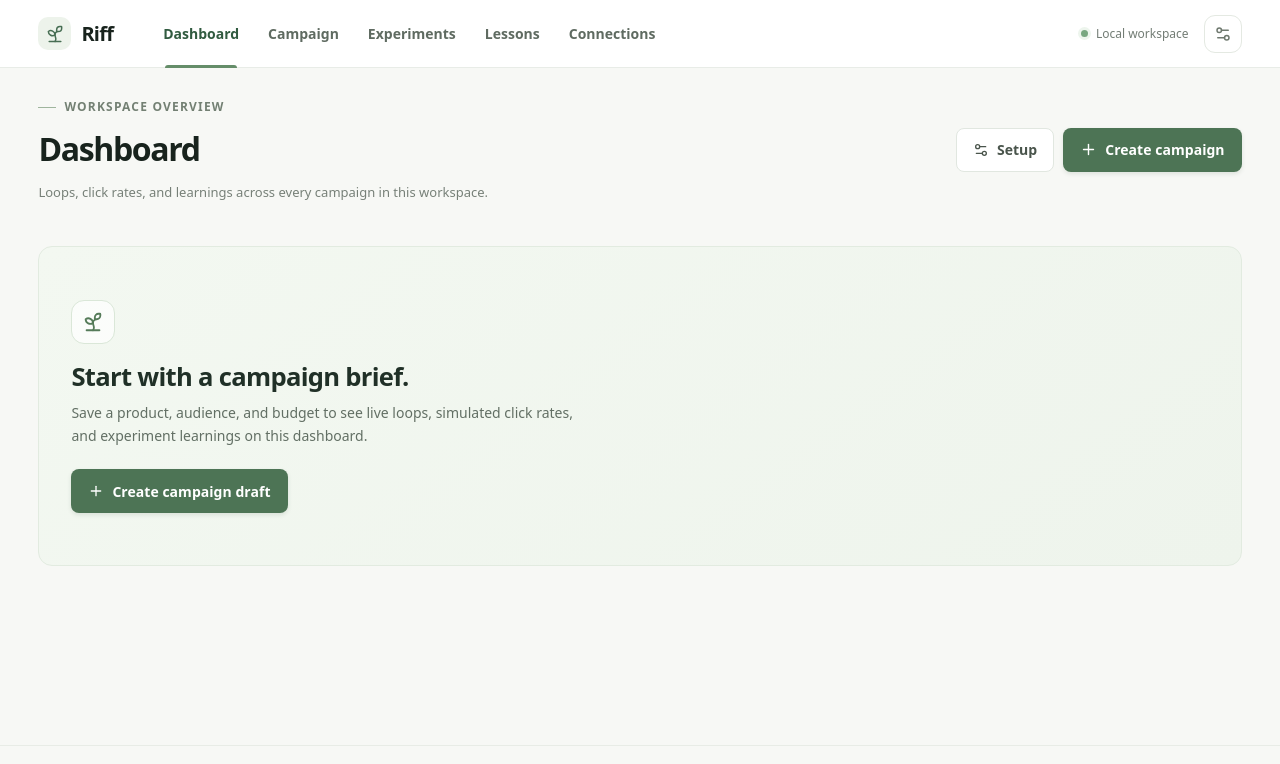
Test: Riff dashboard › saves a draft with integer cents and claim lines without starting generation
The image size is (1280, 764).
Click the button "Create campaign draft" at x=179, y=491, box [71,469,288,513]
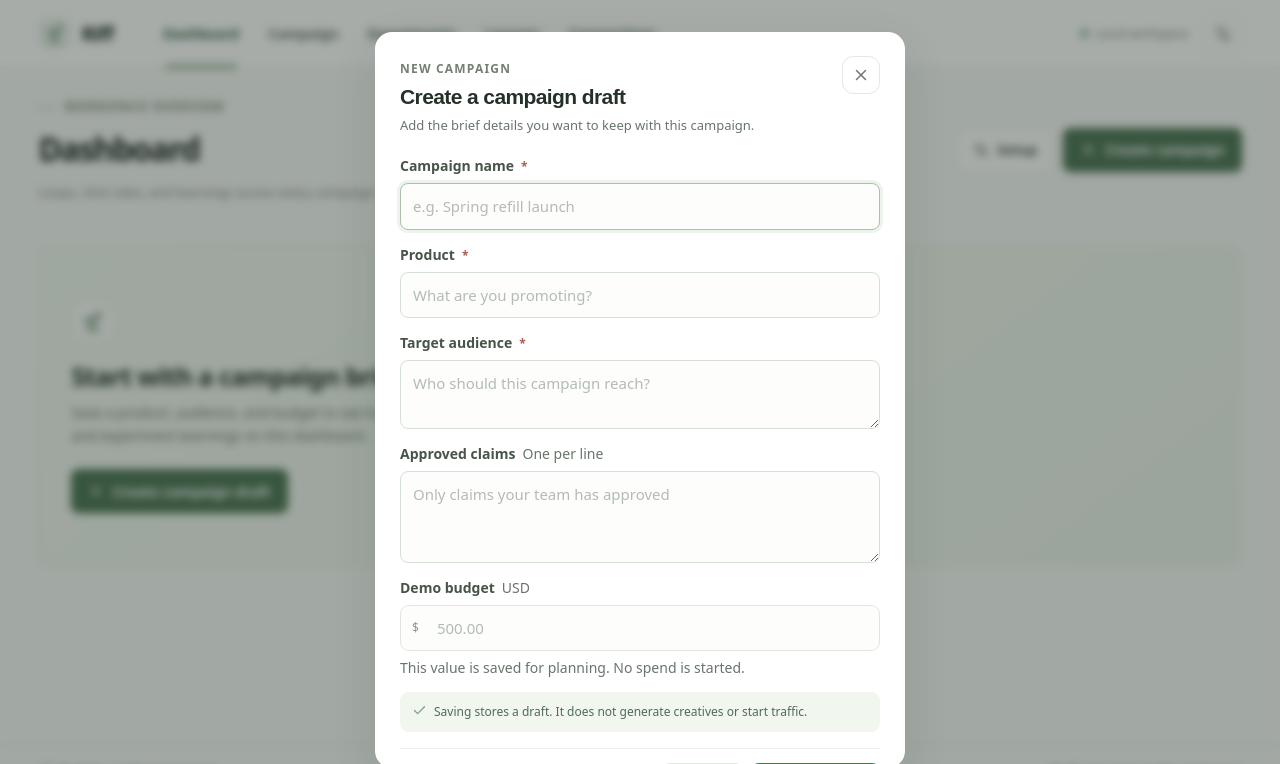
Type "Weekend refill" into the field labelled "Campaign name *" at x=640, y=207, box [400,183,880,230]
Type "Reusable bottle" into the field labelled "Product *" at x=640, y=295, box [400,272,880,318]
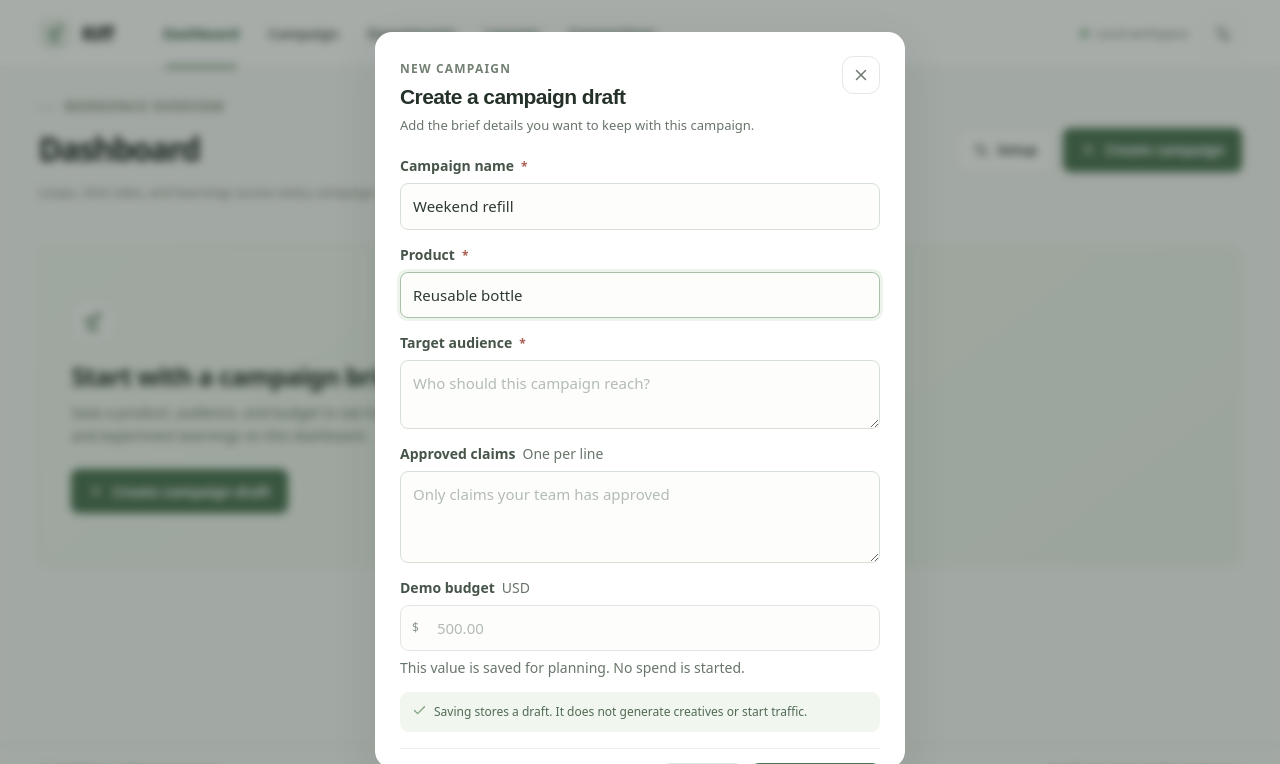
Type "People who commute" into the text box labelled "Target audience *" at x=640, y=395, box [400,360,880,429]
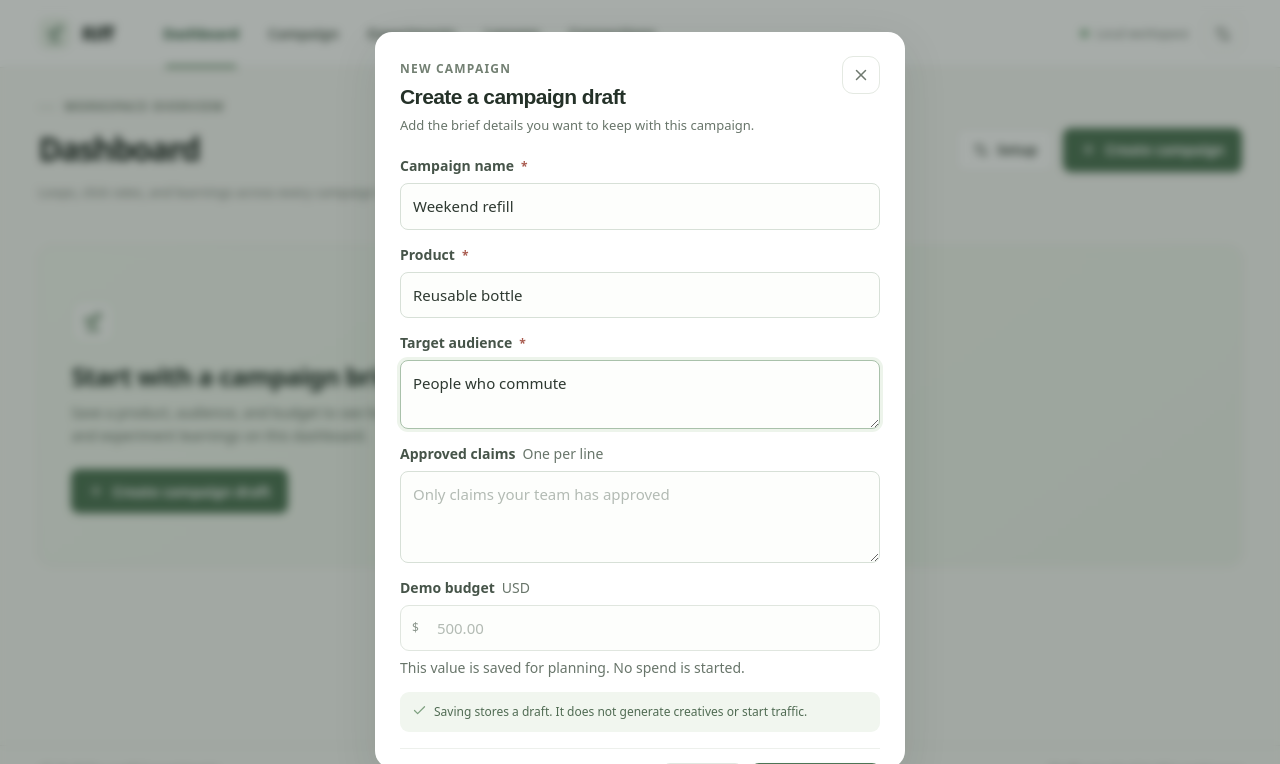
Type "Made for repeat use" into the text box labelled "Approved claims One per line" at x=640, y=517, box [400,471,880,563]
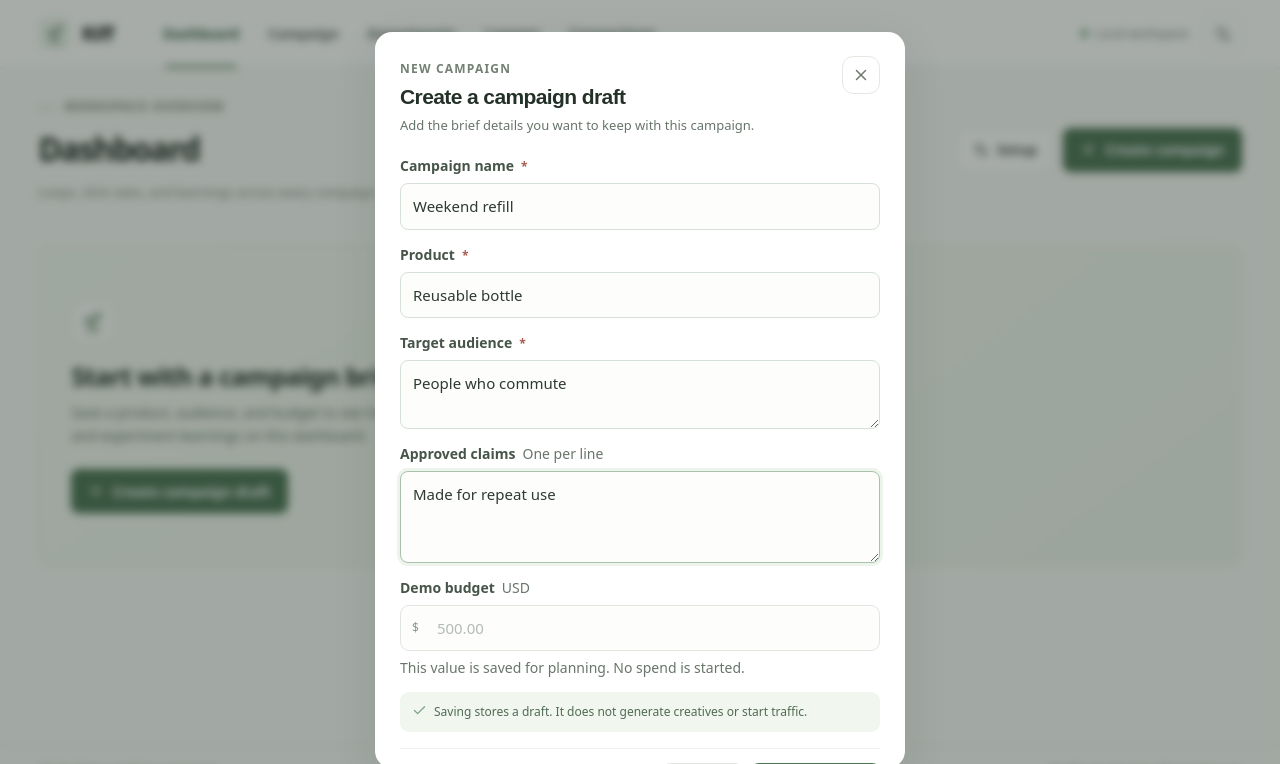
Type "250" into the number field named "Demo budget in US dollars" at x=652, y=628, box [425,606,879,650]
(page scrolled)
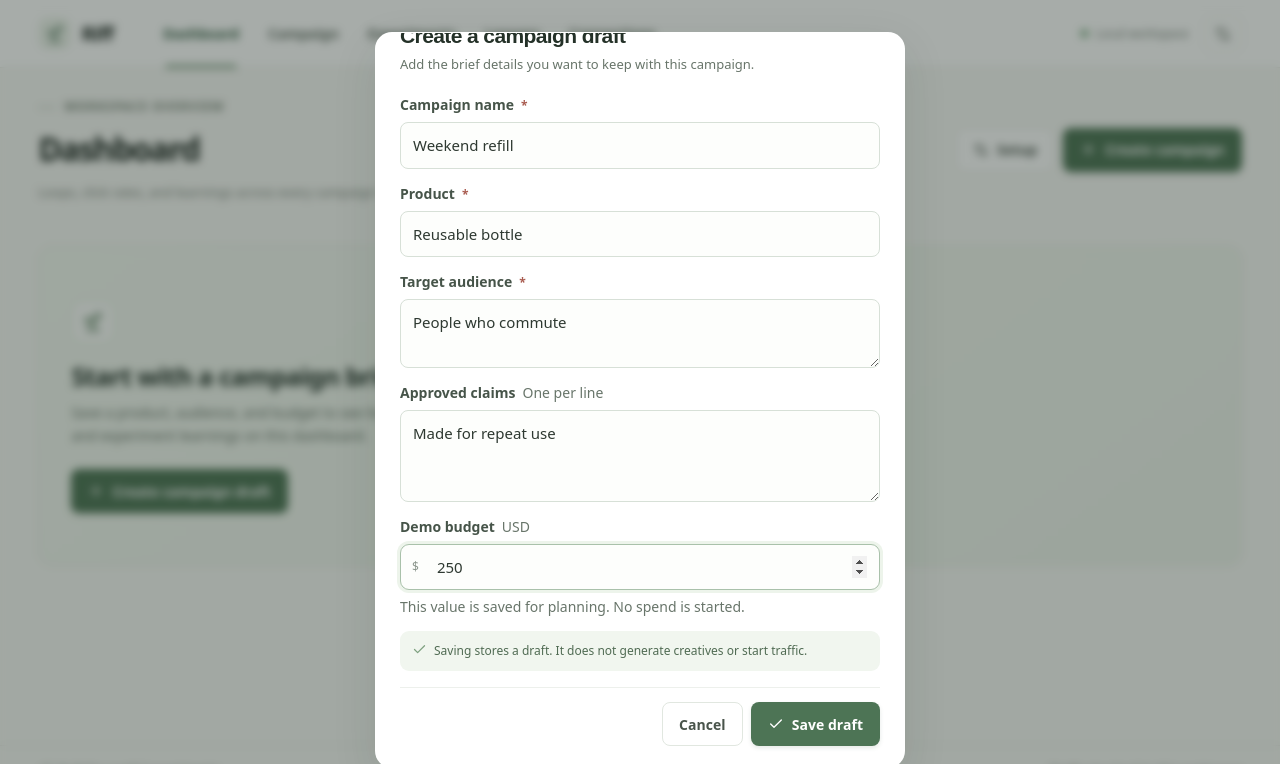
Click the button "Save draft" at x=815, y=724, box [751,702,880,746]
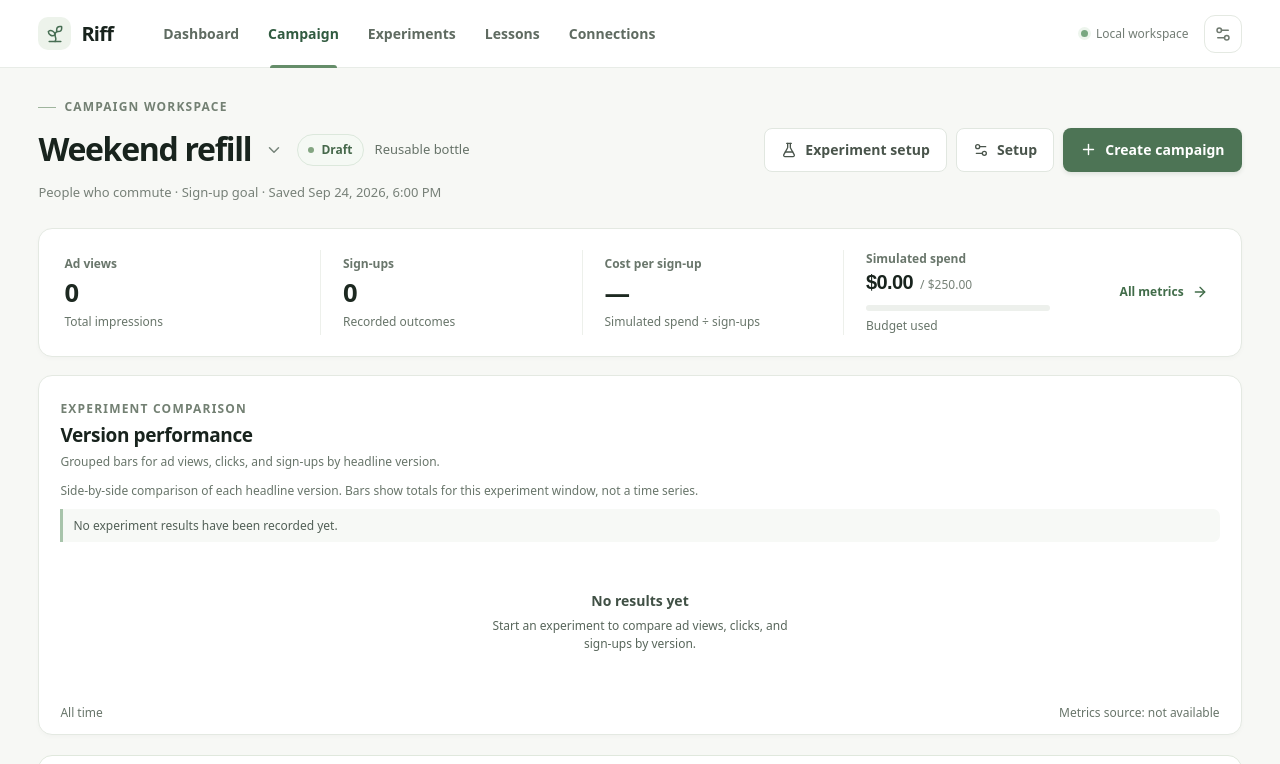
Check: the heading "Version performance" is shown, box [60,422,253,448]
Check: the dropdown named "Choose campaign" shows "Weekend refill", box [38,130,284,170]
